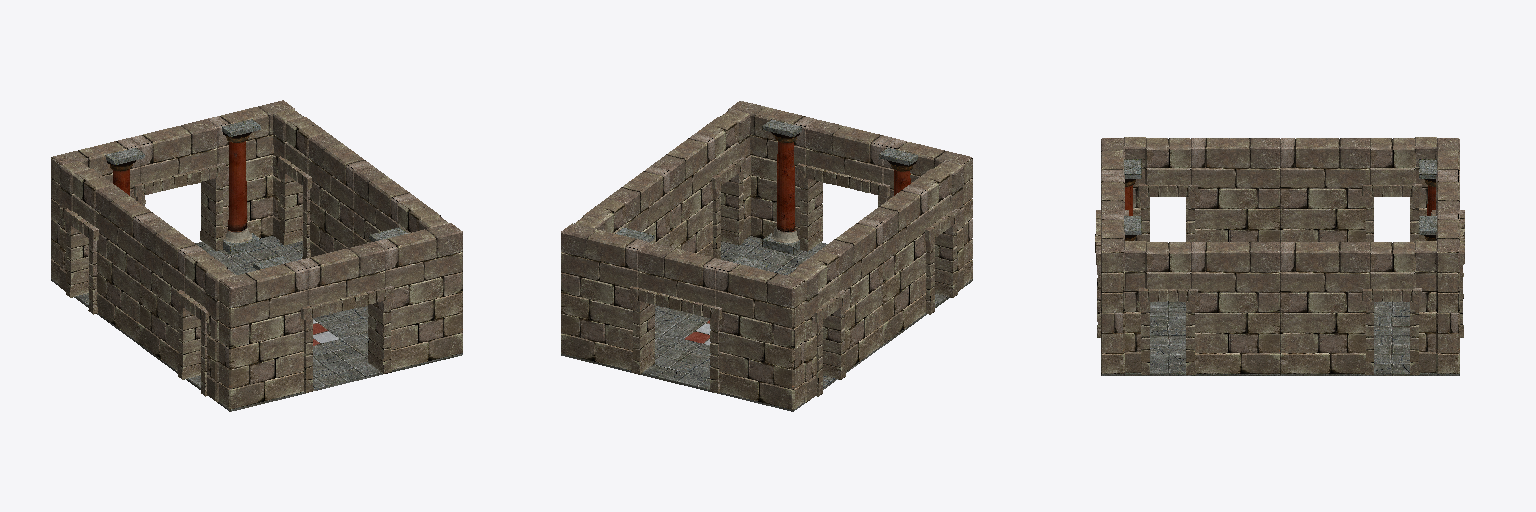
3 views of the same model, side by side, from view 1: azimuth 30°, elevation 25°; view 2: azimuth 150°, elevation 25°; view 3: azimuth 270°, elevation 25° (orthographic).
Visible parts, largest first — view 1: Box3453, Box3452, Box3458, Box3457, Box3455, Box002, Box3454, Box0034, Box3456, Box235, Box022, Line002 (+17 smaller); view 2: Box235, Box002, Box3457, Box3458, Box3456, Box3452, Box0034, Box3454, Box3455, Box3453, Box030, Line005 (+18 smaller); view 3: Box3455, Box3456, Box3458, Box3457, Box002, Box3452, Box4113, Box4114, Box003, Box3461, Box3459, Box3460 (+14 smaller).
Part boxes in pixels (x1,y1,x2,y2): Box3453: (219,261,307,409); Box3452: (375,223,462,369); Box3458: (96,185,159,342); Box3457: (140,218,203,370); Box3455: (309,133,372,256); Box002: (206,100,294,239); Box3454: (297,242,384,305); Box0034: (129,119,216,182); Box3456: (354,166,416,246); Box235: (51,138,139,284); Box022: (313,339,382,390); Line002: (223,132,251,242); Box235: (716,261,804,409); Box002: (561,223,648,370); Box3457: (864,185,927,343); Box3458: (819,218,882,370); Box3456: (651,133,714,256); Box3452: (728,101,816,239); Box0034: (638,242,726,305); Box3454: (806,120,894,183); Box3455: (606,166,669,246); Box3453: (884,138,972,284); Box030: (638,339,713,392); Line005: (771,132,799,242); Box3455: (1280,242,1369,373); Box3456: (1191,242,1279,373); Box3458: (1280,138,1369,242); Box3457: (1191,138,1279,241); Box002: (1436,214,1459,373); Box3452: (1101,214,1124,373); Box4113: (1414,241,1436,372); Box4114: (1124,241,1146,372); Box003: (1145,138,1190,185); Box3461: (1145,242,1190,289); Box3459: (1370,138,1415,185); Box3460: (1370,242,1415,289).
Bounding box in the file's own units: 6.28 × 3.08 × 8.27.
6 materials, 6 textured.